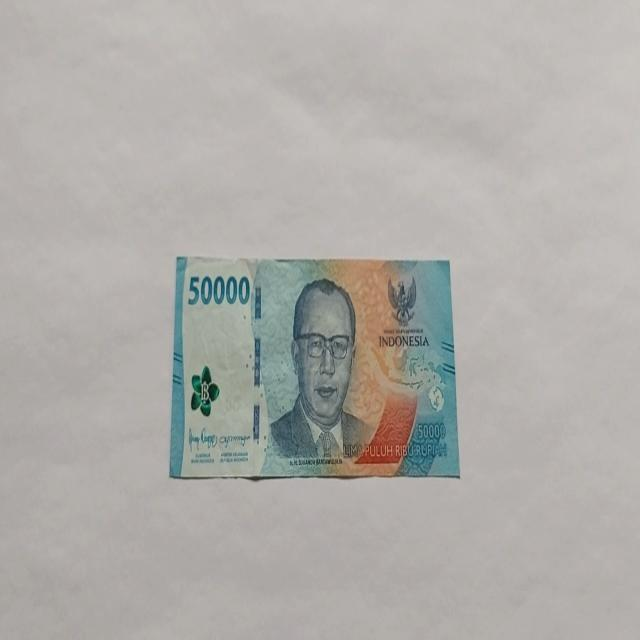lima puluh ribu rupiah: (168, 253, 460, 482), (263, 276, 376, 470)
